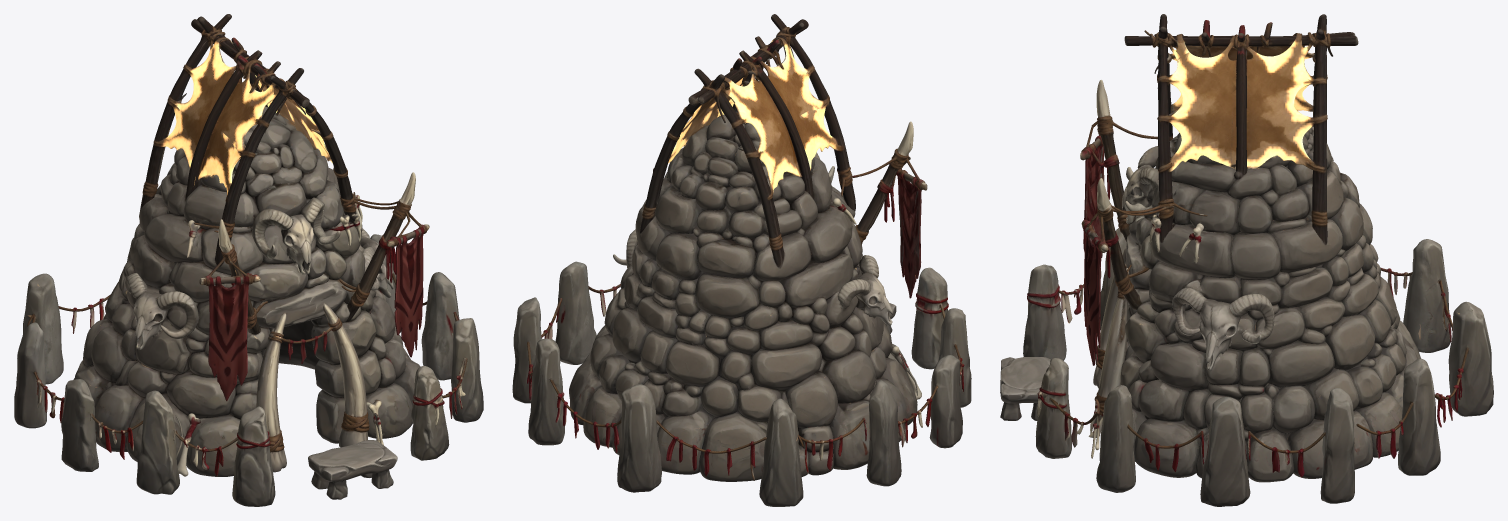
File: TrollCairn_300k.glb
3 renders of one model, left to right at view 1: azimuth 30°, elevation 25°; view 2: azimuth 150°, elevation 25°; view 3: azimuth 270°, elevation 25°, orthographic. The views are drawn at different scales.
Parts seen in each view (by area): view 1: Mesh_0; view 2: Mesh_0; view 3: Mesh_0.
Boxes of the visible parts, x1,y1,x2,y2 form: Mesh_0: (14, 14, 483, 506); Mesh_0: (512, 14, 971, 506); Mesh_0: (1000, 14, 1493, 506).
Size of the model in its own units: 1.86 by 1.65 by 1.9.
Materials: 1 (1 with a texture image).
